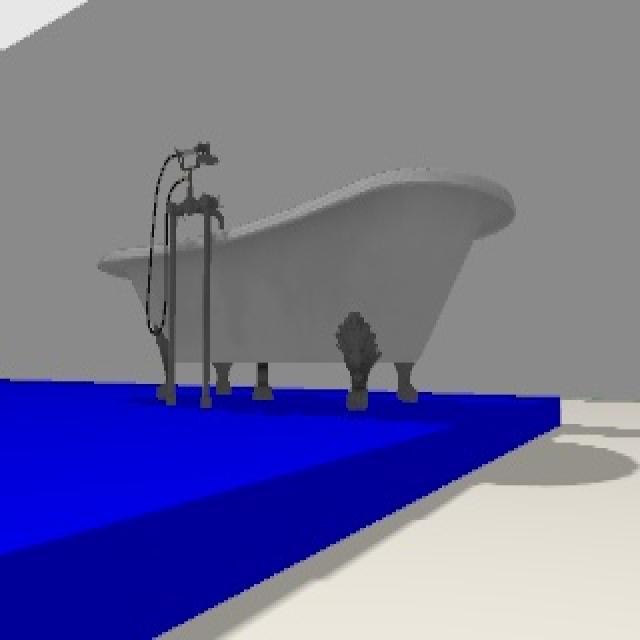bathtub: (100, 140, 513, 417)
